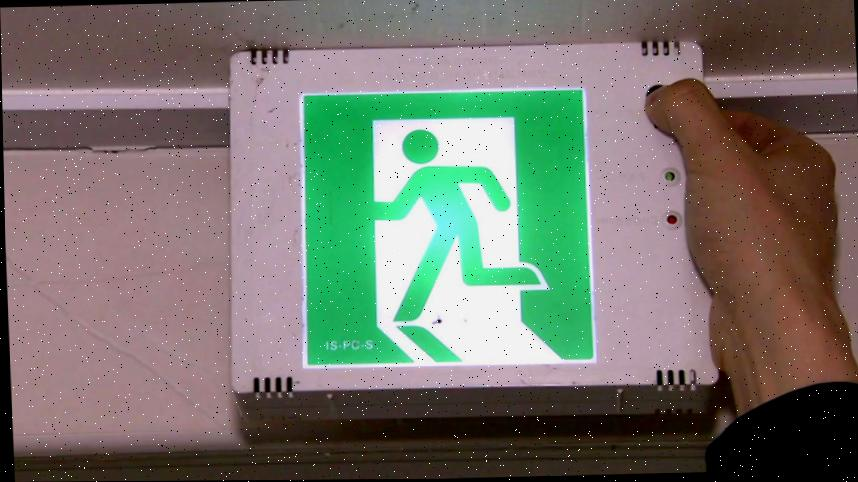emergency_exit: (228, 41, 718, 405), (299, 86, 598, 369)
